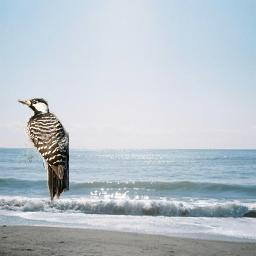Woodpecker: (17, 98, 69, 203)
